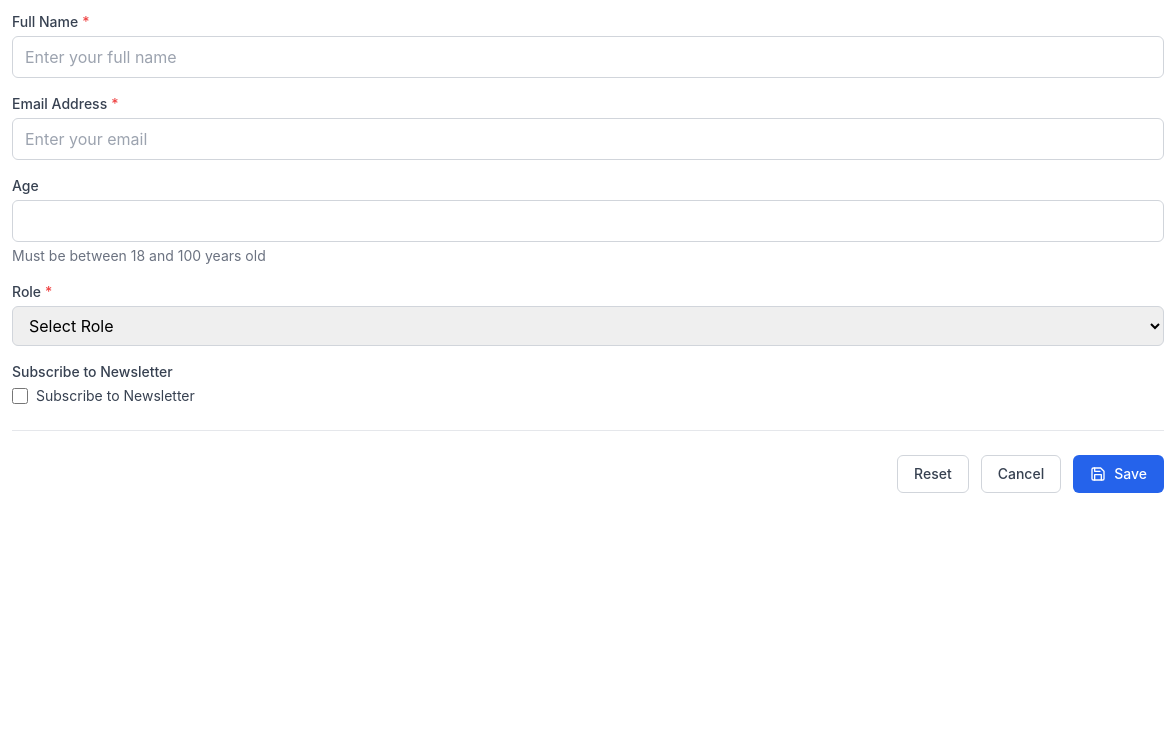
Test case: SimpleForm › handles form submission with validation errors
// Try both approaches: click the button and submit the form directly
Click the button "Save": (1119, 474) [1073, 455, 1164, 493]
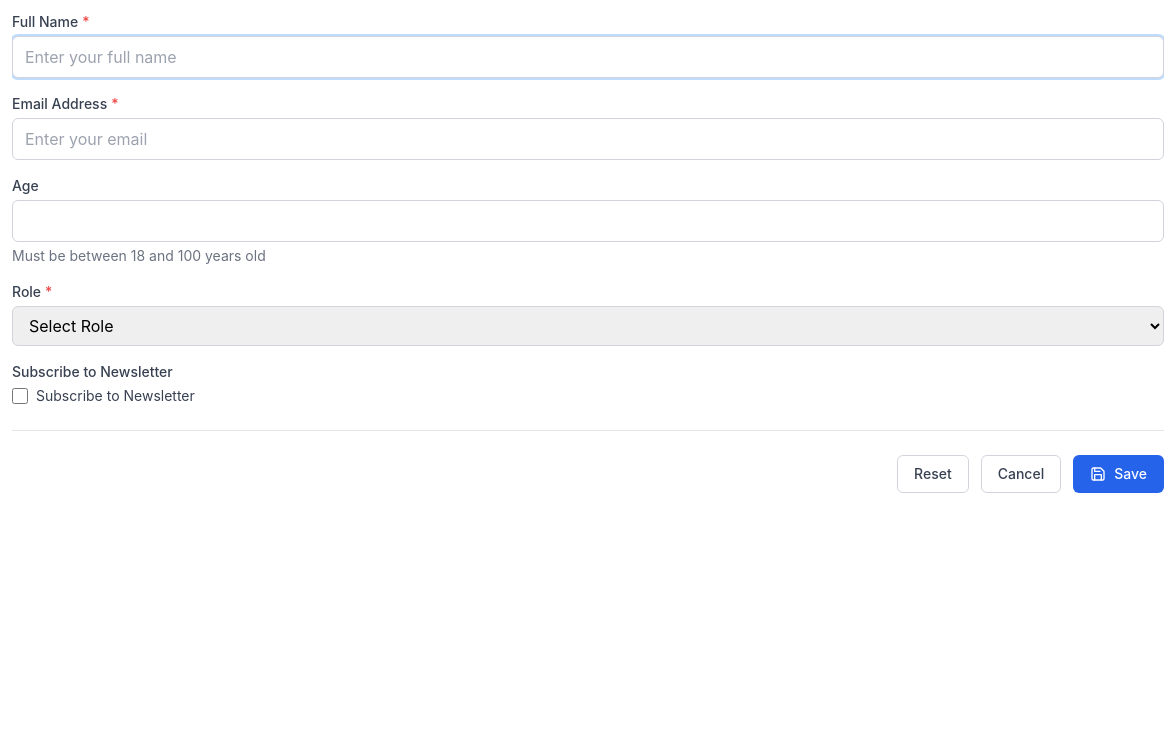
Submit the form
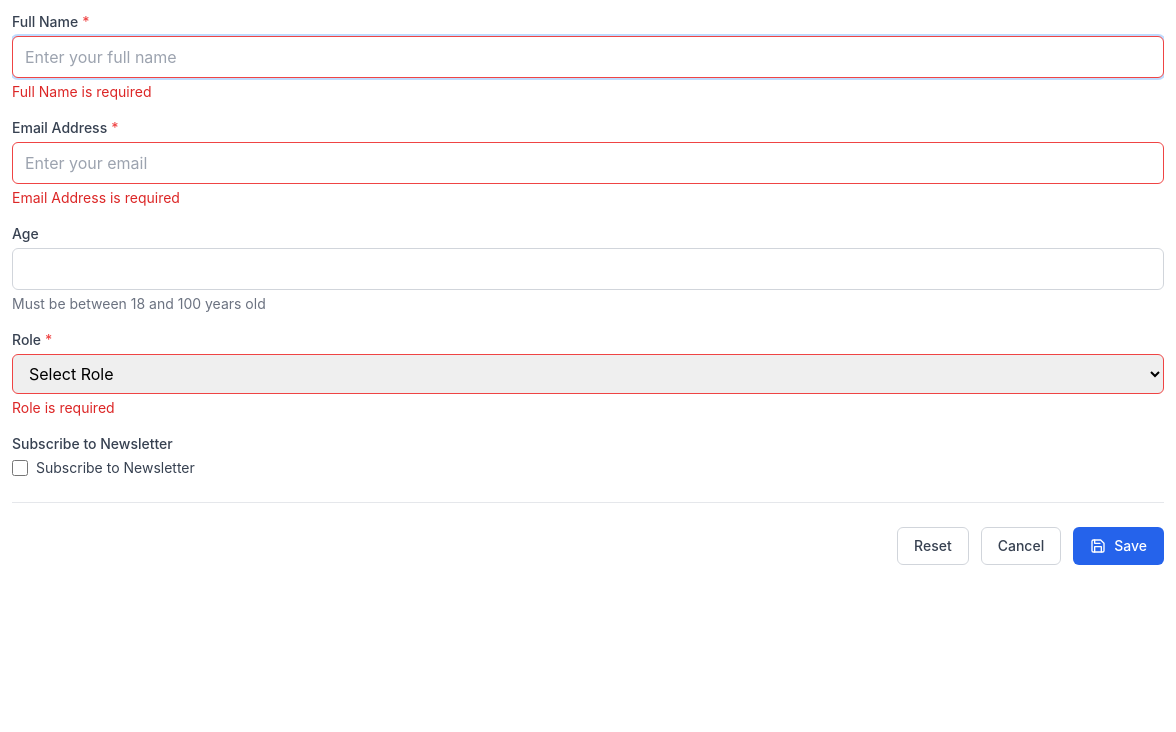
Check: the text "Full Name is required" is shown, box [12, 83, 152, 100]
